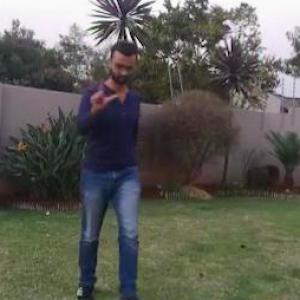land_hand: (82, 67, 120, 111)
